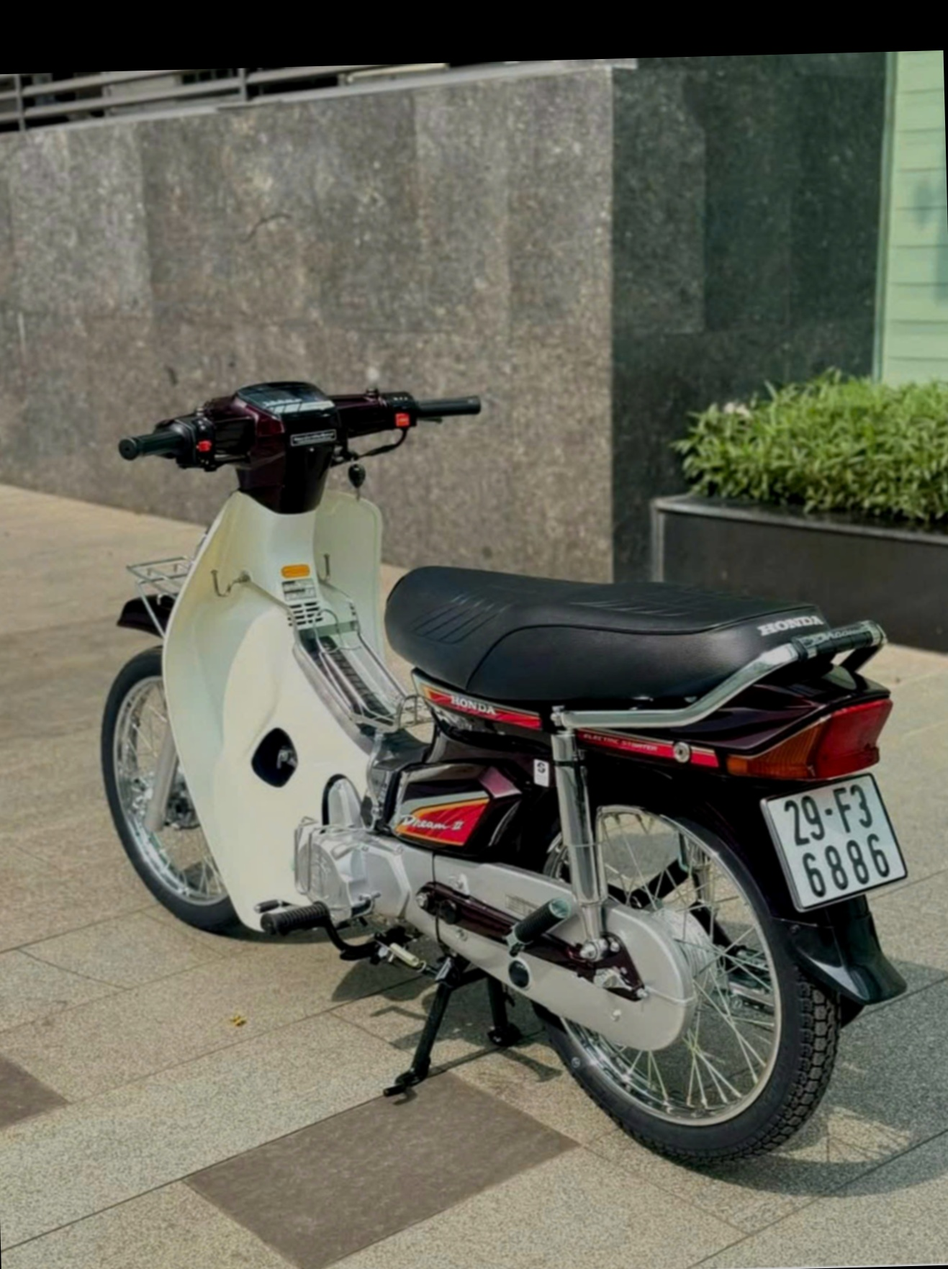Bien-so: (753, 802, 909, 960)
